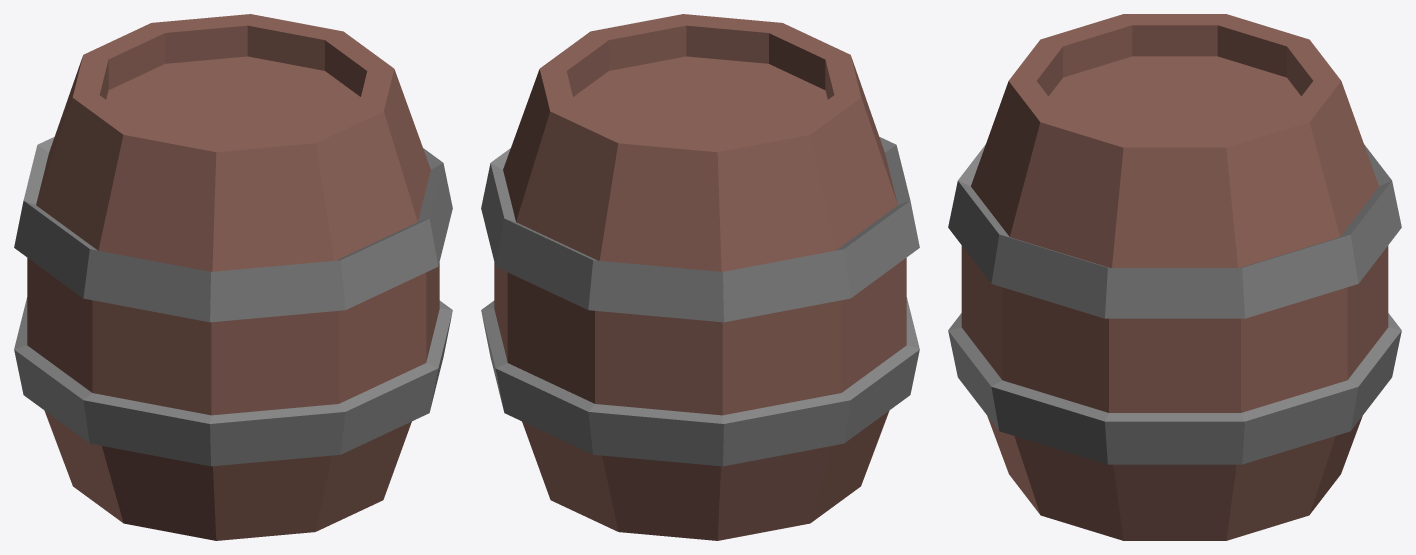
The model's file is lowPolyBarrel.fbx.
3 renders of one model, left to right at view 1: azimuth 30°, elevation 25°; view 2: azimuth 150°, elevation 25°; view 3: azimuth 270°, elevation 25°, orthographic.
Visible parts, largest first — view 1: Cylinder; view 2: Cylinder; view 3: Cylinder.
Boxes of the visible parts, <box> form: Cylinder: <box>14,14,452,540</box>; Cylinder: <box>481,14,919,540</box>; Cylinder: <box>948,14,1401,540</box>.
Size of the model in its own units: 227 by 229 by 239.
